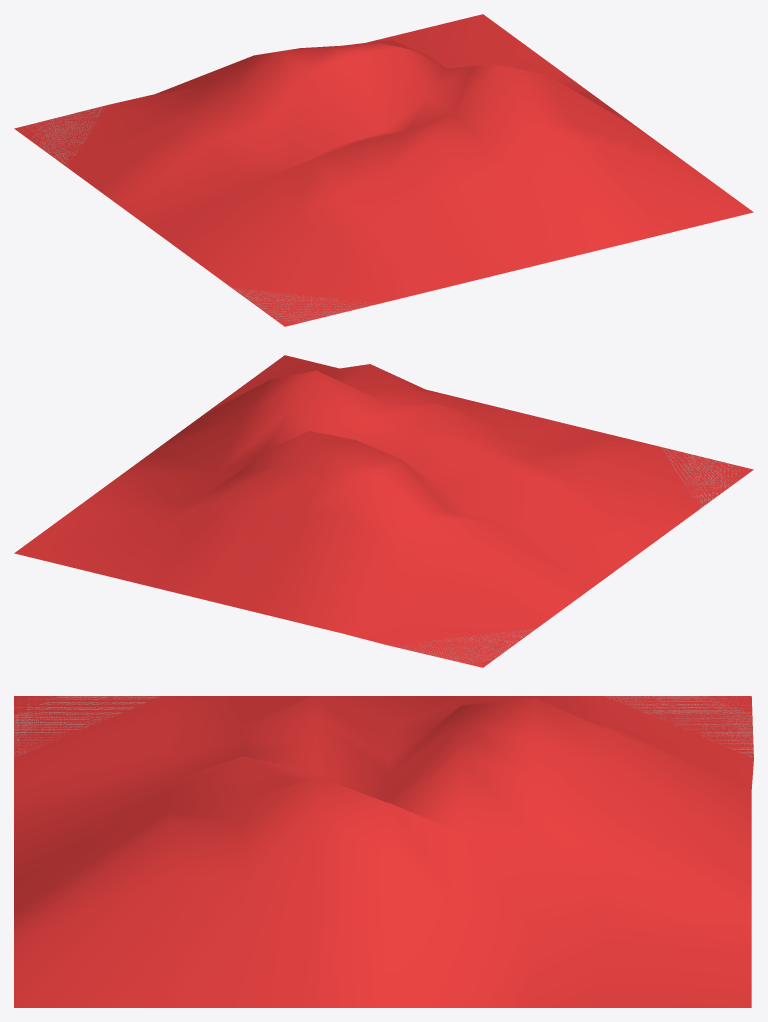
Rendered from Drug_Pile.fbx.
3 views of the same model, one above another, from view 1: azimuth 30°, elevation 25°; view 2: azimuth 150°, elevation 25°; view 3: azimuth 270°, elevation 25° (orthographic). The views are drawn at different scales.
Parts seen in each view (by area): view 1: Drug_Pile; view 2: Drug_Pile; view 3: Drug_Pile.
Boxes of the visible parts, x1=… form: Drug_Pile: x1=14, y1=14, x2=753, y2=326; Drug_Pile: x1=14, y1=355, x2=753, y2=667; Drug_Pile: x1=14, y1=696, x2=753, y2=1007.
Size of the model in its own units: 77.23 by 15.84 by 77.46.
